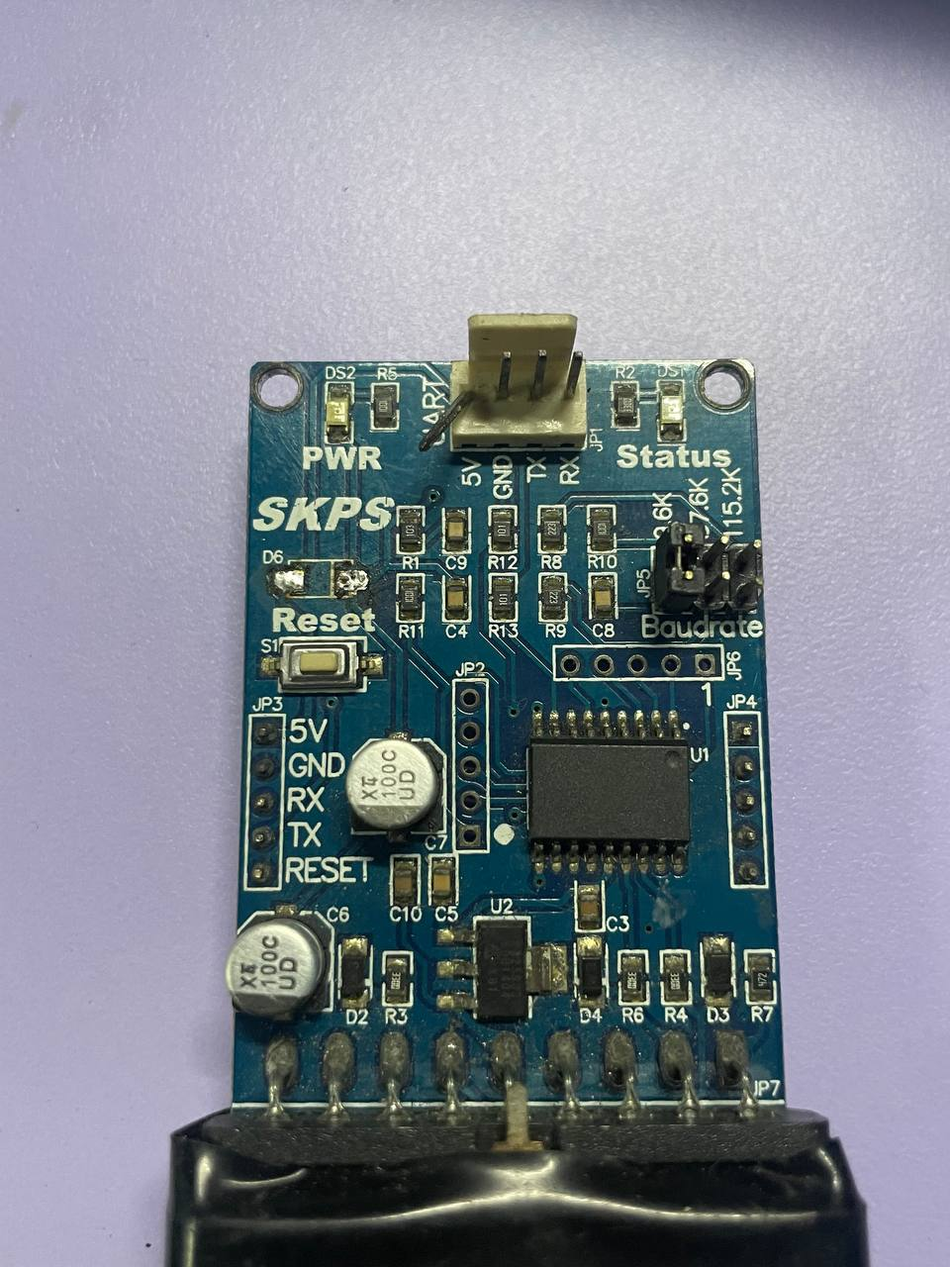bent_pin: (412, 380, 483, 455)
missing_comp: (275, 556, 361, 604)
